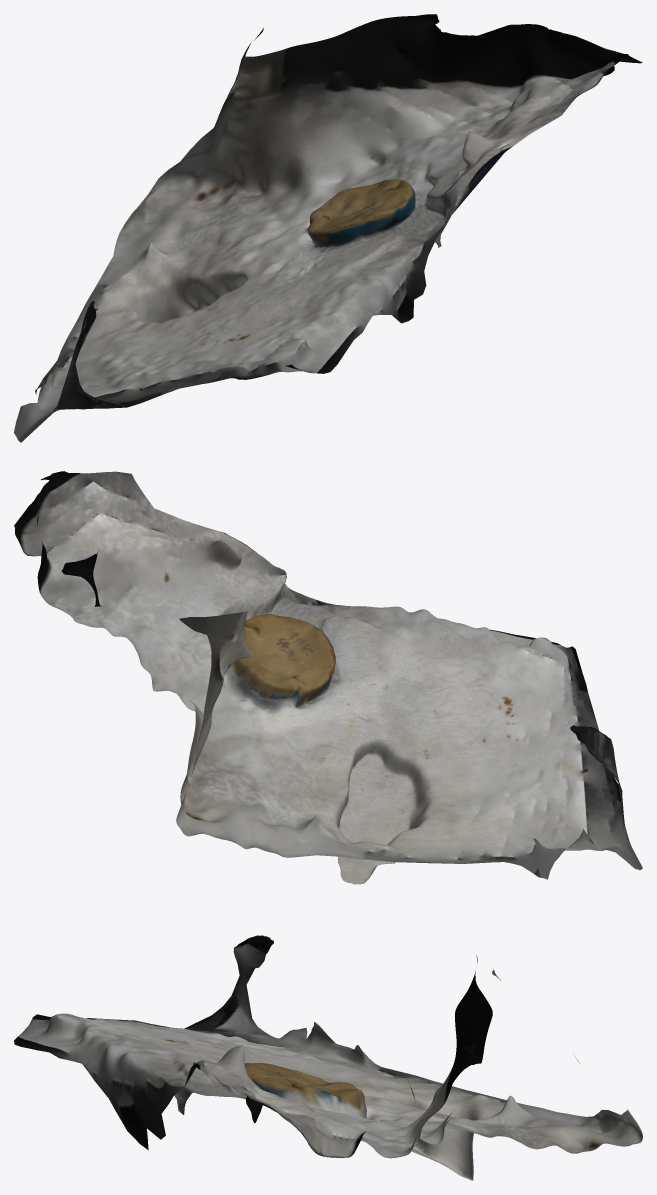
3 views of the same model, one above another, from view 1: azimuth 30°, elevation 25°; view 2: azimuth 150°, elevation 25°; view 3: azimuth 270°, elevation 25° (orthographic). The views are drawn at different scales.
Size of the model in its own units: 1.43 by 0.5767 by 1.06.
Materials: 1 (1 with a texture image).
